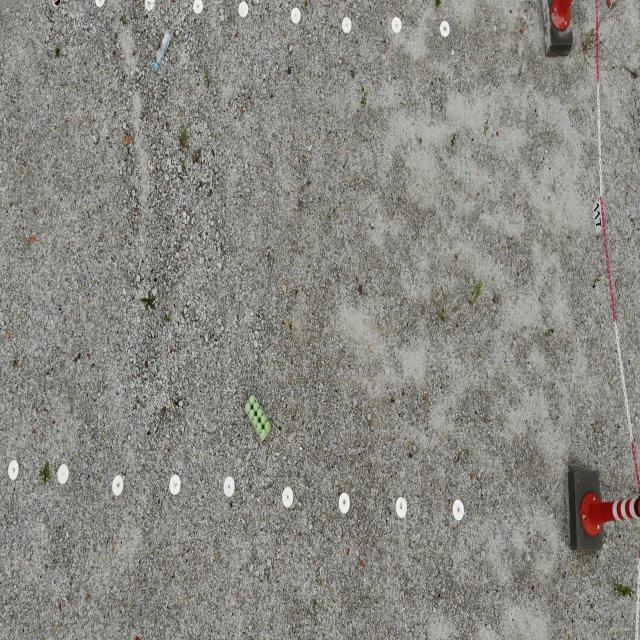rubbish: (242, 394, 271, 442), (156, 28, 174, 70)
